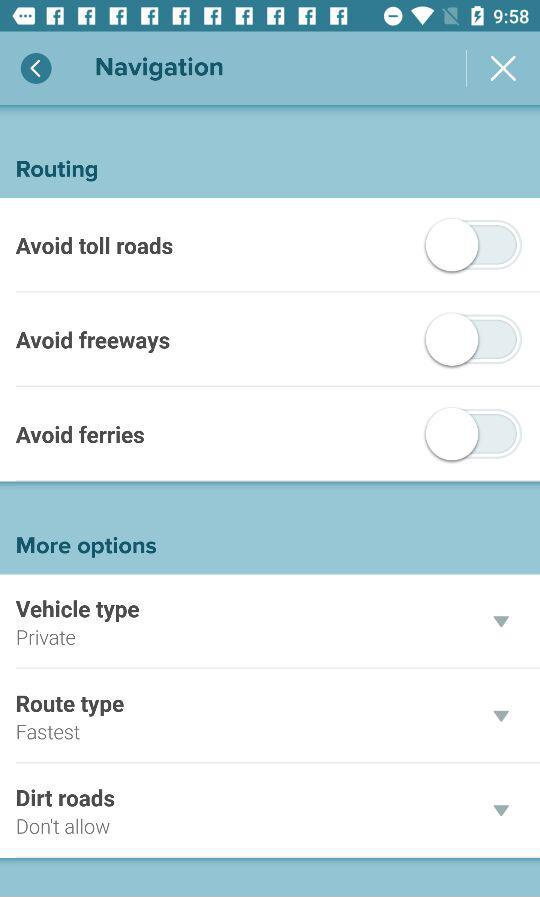Icon: (21, 54, 53, 85), (489, 56, 517, 83), (493, 804, 510, 817), (493, 615, 510, 628), (492, 710, 510, 722)
Switch: (424, 312, 523, 369), (424, 218, 523, 274), (424, 407, 523, 463)
Text: (17, 330, 171, 354), (17, 536, 157, 559), (97, 57, 224, 82), (16, 237, 174, 256), (16, 599, 140, 623), (17, 695, 125, 718), (16, 426, 145, 445), (18, 788, 116, 808), (17, 160, 98, 183), (17, 817, 111, 835), (18, 628, 77, 646), (18, 725, 82, 741)
Toolbar: (2, 34, 540, 107)
UpperTaskBar: (1, 1, 540, 33)
